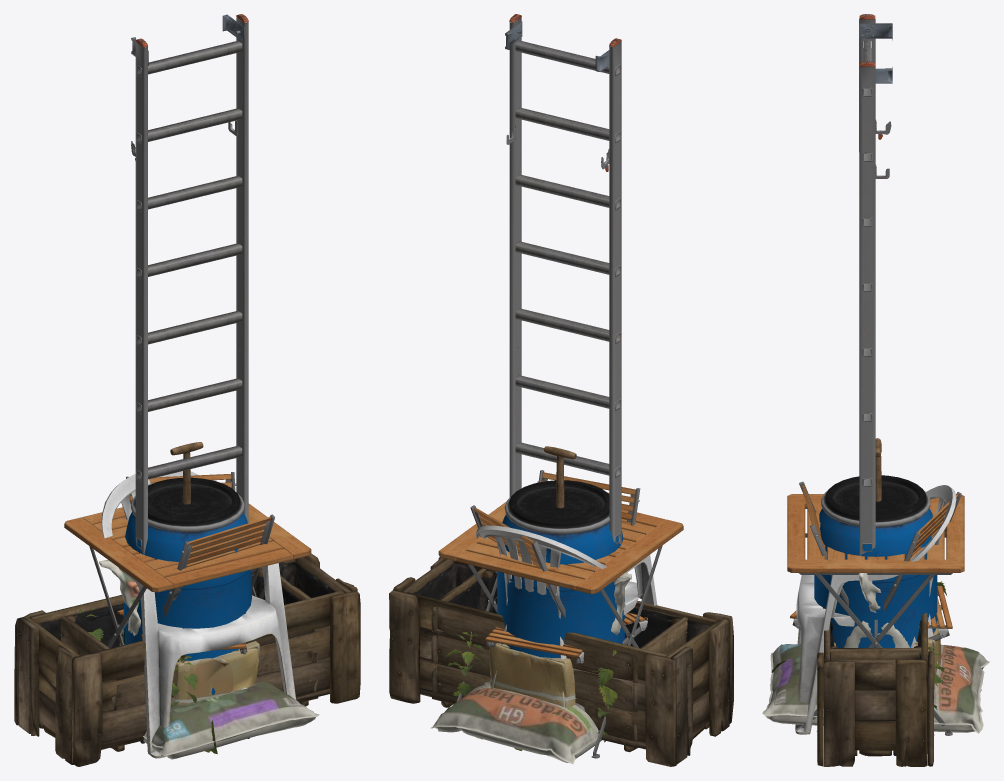
Rendered from shed_props.glb.
3 views of the same model, side by side, from view 1: azimuth 30°, elevation 25°; view 2: azimuth 150°, elevation 25°; view 3: azimuth 270°, elevation 25° (orthographic). The views are drawn at different scales.
Visible parts, largest first — view 1: planter_box_02_lod0, ladder_lod0, barrel_02_lod0, plastic_chair_lod0, outdoor_table_lod0, compost_bags_stacked_lod0, planter_box_01_lod0, cardboard_box_lod0, outdoor_chair_a_lod0, compost_bags_standing_lod0, outdoor_chair_b_lod0, spade_lod0; view 2: ladder_lod0, planter_box_02_lod0, barrel_02_lod0, planter_box_01_lod0, outdoor_table_lod0, compost_bags_stacked_lod0, plastic_chair_lod0, cardboard_box_lod0, outdoor_chair_a_lod0, outdoor_chair_b_lod0, nettle_lod0, spade_lod0; view 3: planter_box_02_lod0, barrel_02_lod0, ladder_lod0, outdoor_table_lod0, compost_bags_stacked_lod0, plastic_chair_lod0, outdoor_chair_a_lod0, planter_box_01_lod0, outdoor_chair_b_lod0, compost_bags_standing_lod0, spade_lod0.
Boxes of the visible parts, x1,y1,x2,y2 form: planter_box_02_lod0: (14, 553, 360, 766); ladder_lod0: (131, 14, 248, 554); barrel_02_lod0: (123, 477, 251, 694); plastic_chair_lod0: (101, 471, 295, 758); outdoor_table_lod0: (64, 503, 311, 724); compost_bags_stacked_lod0: (143, 682, 319, 759); planter_box_01_lod0: (60, 568, 318, 751); cardboard_box_lod0: (173, 641, 259, 705); outdoor_chair_a_lod0: (117, 514, 274, 637); compost_bags_standing_lod0: (99, 560, 140, 644); outdoor_chair_b_lod0: (126, 472, 249, 743); spade_lod0: (170, 442, 203, 504); ladder_lod0: (505, 14, 621, 544); planter_box_02_lod0: (389, 557, 733, 766); barrel_02_lod0: (497, 480, 624, 657); planter_box_01_lod0: (431, 568, 687, 752); outdoor_table_lod0: (438, 501, 683, 758); compost_bags_stacked_lod0: (430, 684, 602, 764); plastic_chair_lod0: (475, 525, 657, 711); cardboard_box_lod0: (489, 643, 575, 707); outdoor_chair_a_lod0: (485, 470, 640, 663); outdoor_chair_b_lod0: (470, 505, 647, 644); nettle_lod0: (444, 631, 627, 742); spade_lod0: (544, 446, 576, 508); planter_box_02_lod0: (816, 612, 934, 766); barrel_02_lod0: (814, 475, 937, 647); ladder_lod0: (859, 14, 892, 555); outdoor_table_lod0: (787, 494, 964, 735); compost_bags_stacked_lod0: (762, 644, 989, 733); plastic_chair_lod0: (795, 485, 956, 734); outdoor_chair_a_lod0: (799, 481, 952, 641); planter_box_01_lod0: (823, 616, 927, 669); outdoor_chair_b_lod0: (790, 492, 961, 629); compost_bags_standing_lod0: (843, 573, 909, 647); spade_lod0: (875, 438, 881, 501).
Size of what is drawn, in the model's own units: 1.25 by 2.85 by 0.8879.
17 materials, 17 textured.
